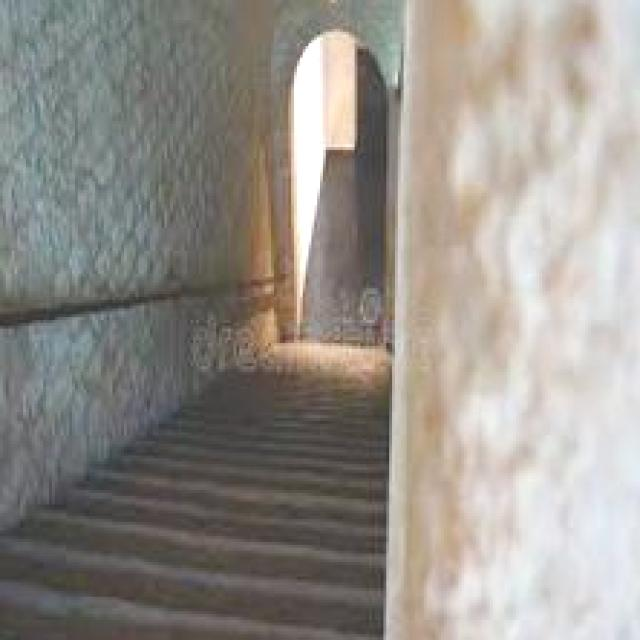downstair: (24, 460, 361, 636)
